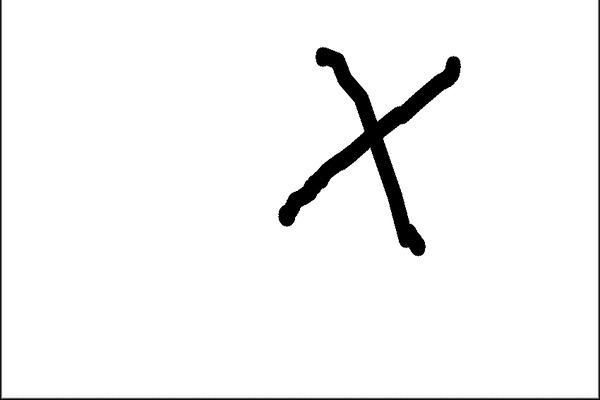X: (256, 29, 484, 292)
